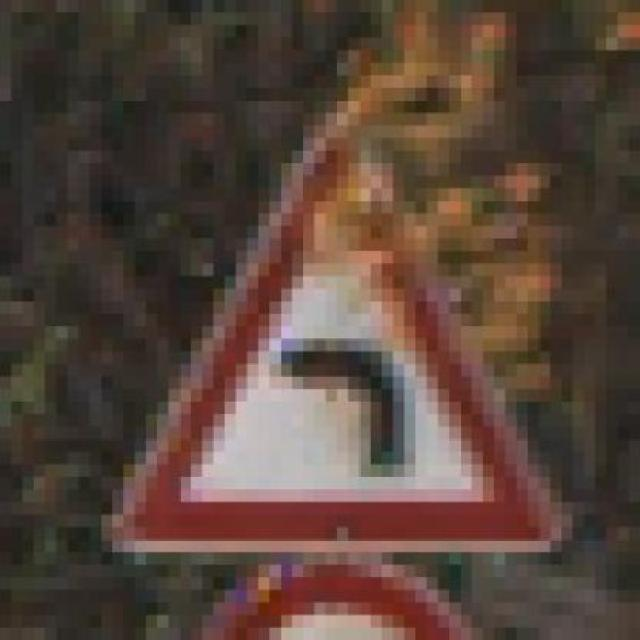Dangerous Left Curve Ahead: (79, 112, 562, 552)
